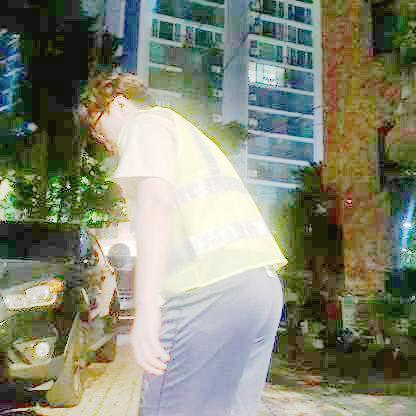no-helmet: (72, 67, 153, 122)
vest: (115, 105, 290, 296)
